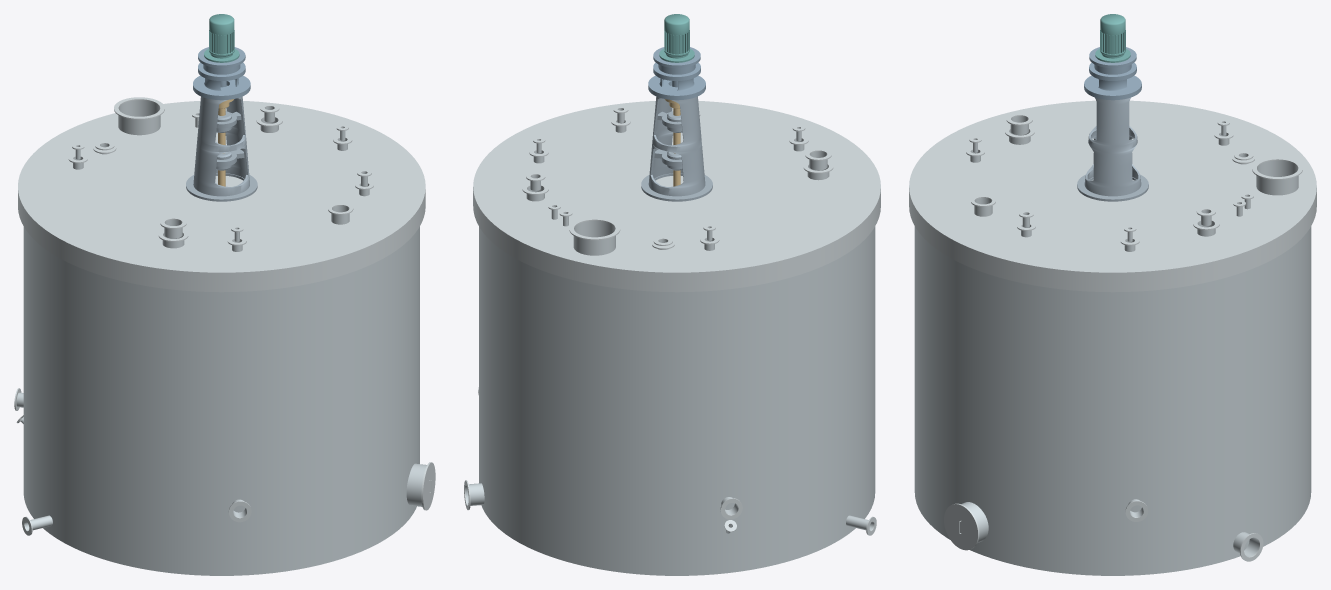
3 renders of one model, left to right at view 1: azimuth 30°, elevation 25°; view 2: azimuth 150°, elevation 25°; view 3: azimuth 270°, elevation 25°, orthographic.
Visible parts, largest first — view 1: Tank_shell, Tank_cover_lid, 06_Tapered_window_frame_with_bored_seats, 接口_g接管, 01_Motor, 02_Base_flange_top, 06_Frame_foot, 接口_t接管; view 2: Tank_shell, Tank_cover_lid, 06_Tapered_window_frame_with_bored_seats, 接口_g接管, 01_Motor, 02_Base_flange_top, 06_Frame_foot; view 3: Tank_shell, Tank_cover_lid, 06_Tapered_window_frame_with_bored_seats, 接口_t_人孔盖, 接口_g接管, 01_Motor, 02_Base_flange_top, 06_Frame_foot.
Part boxes in pixels (x1,y1,x2,y2): Tank_shell: (23, 226, 419, 575); Tank_cover_lid: (18, 101, 425, 292); 06_Tapered_window_frame_with_bored_seats: (193, 85, 249, 196); 接口_g接管: (118, 100, 160, 135); 01_Motor: (204, 14, 239, 62); 02_Base_flange_top: (193, 75, 250, 97); 06_Frame_foot: (186, 173, 257, 201); 接口_t接管: (406, 463, 426, 506); Tank_shell: (479, 226, 875, 575); Tank_cover_lid: (473, 101, 880, 292); 06_Tapered_window_frame_with_bored_seats: (648, 85, 705, 196); 接口_g接管: (573, 221, 615, 255); 01_Motor: (659, 14, 694, 62); 02_Base_flange_top: (648, 75, 705, 97); 06_Frame_foot: (641, 173, 712, 201); Tank_shell: (914, 226, 1311, 575); Tank_cover_lid: (909, 100, 1316, 292); 06_Tapered_window_frame_with_bored_seats: (1084, 97, 1141, 196); 接口_t_人孔盖: (944, 504, 978, 550); 接口_g接管: (1256, 160, 1298, 195); 01_Motor: (1095, 14, 1130, 62); 02_Base_flange_top: (1084, 75, 1141, 97); 06_Frame_foot: (1077, 174, 1148, 201).
Size of the model in its own units: 6.5 by 7.78 by 6.07.
